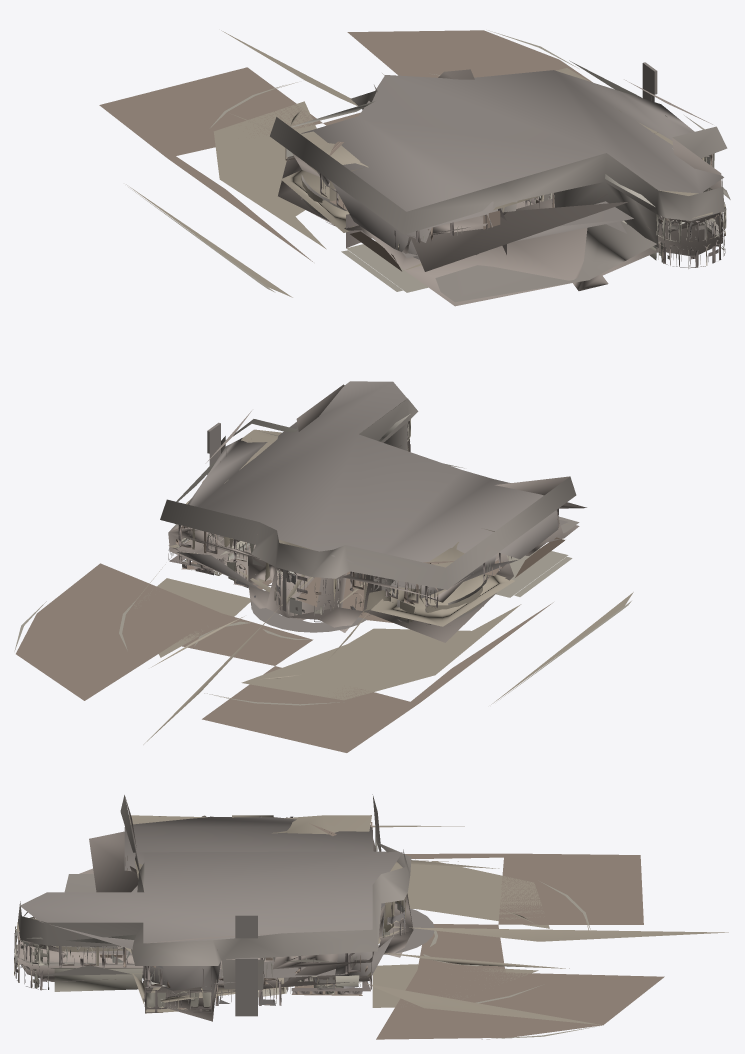
Rendered from mansion_furnished_quest.glb.
The picture shows the model from 3 angles, top to bottom: view 1: azimuth 30°, elevation 25°; view 2: azimuth 150°, elevation 25°; view 3: azimuth 270°, elevation 25°; orthographic projection. The views are drawn at different scales.
Visible parts, largest first — view 1: world; view 2: world; view 3: world.
Boxes of the visible parts, x1=… form: world: x1=99, y1=30, x2=730, y2=306; world: x1=14, y1=381, x2=633, y2=752; world: x1=14, y1=794, x2=728, y2=1039.
Bounding box in the file's own units: 27.6 × 5.56 × 36.
